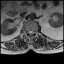CCS_normal: (30, 29, 32, 37)
LFS_normal: (33, 29, 35, 35)
LLS_normal: (32, 29, 33, 36)
RFS_stenosis: (26, 29, 28, 35)
RLS_normal: (28, 29, 30, 35)
